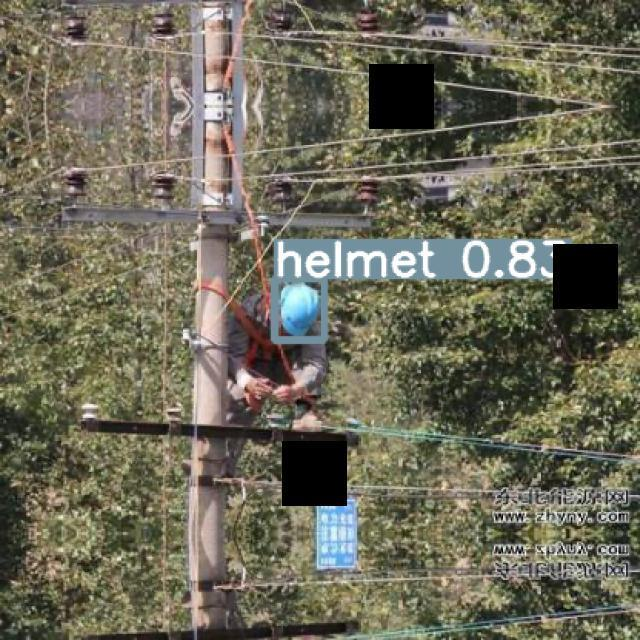blue helmet: (281, 280, 321, 338)
